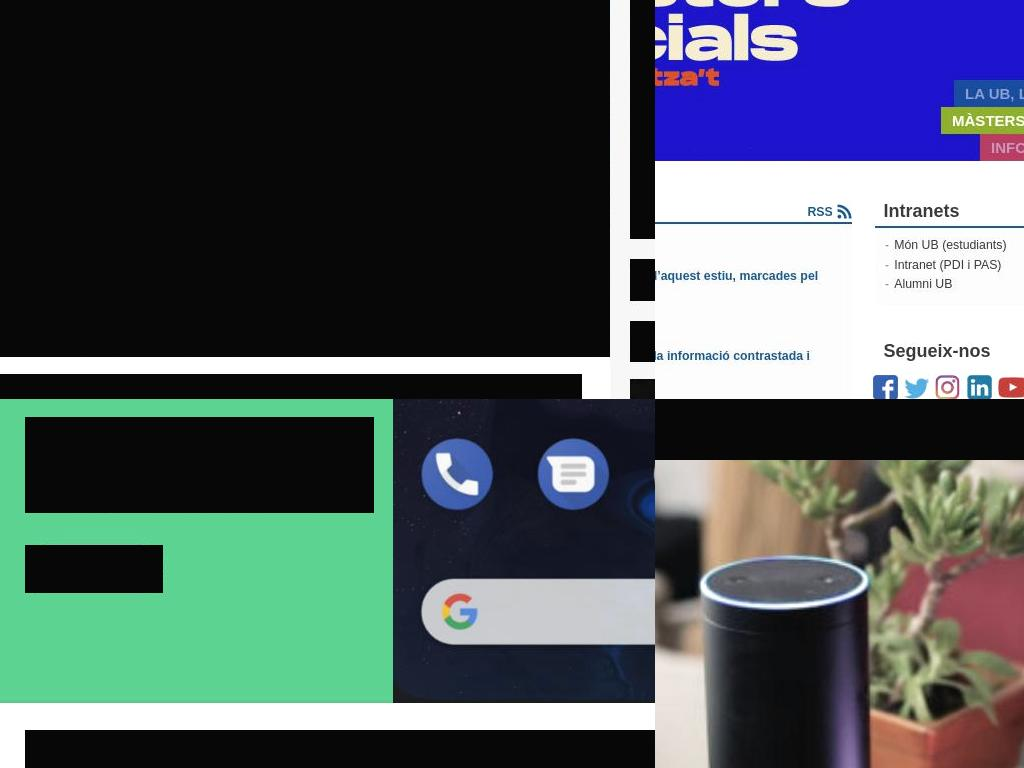button: (0, 0, 610, 357), (655, 401, 1024, 768), (655, 0, 1024, 162), (655, 405, 1024, 460), (25, 545, 163, 593), (997, 375, 1024, 399), (873, 375, 899, 399), (904, 375, 930, 399), (935, 375, 961, 399), (966, 375, 992, 399)
heading: (0, 374, 582, 399), (655, 196, 853, 222), (655, 236, 852, 255), (883, 201, 1024, 220), (883, 342, 1024, 360)
image: (0, 0, 610, 357), (655, 401, 1024, 768), (655, 0, 1024, 162), (874, 375, 1024, 399), (997, 375, 1024, 399), (904, 375, 930, 399), (935, 375, 961, 399), (966, 375, 992, 399)
link: (655, 269, 818, 301), (655, 349, 810, 381), (894, 238, 1007, 253), (894, 257, 1002, 272), (234, 756, 311, 768), (894, 277, 953, 292), (807, 204, 833, 219)
text: (25, 417, 374, 513), (25, 730, 655, 768), (952, 112, 1024, 130), (965, 85, 1024, 103), (991, 139, 1024, 157), (311, 756, 315, 768)
